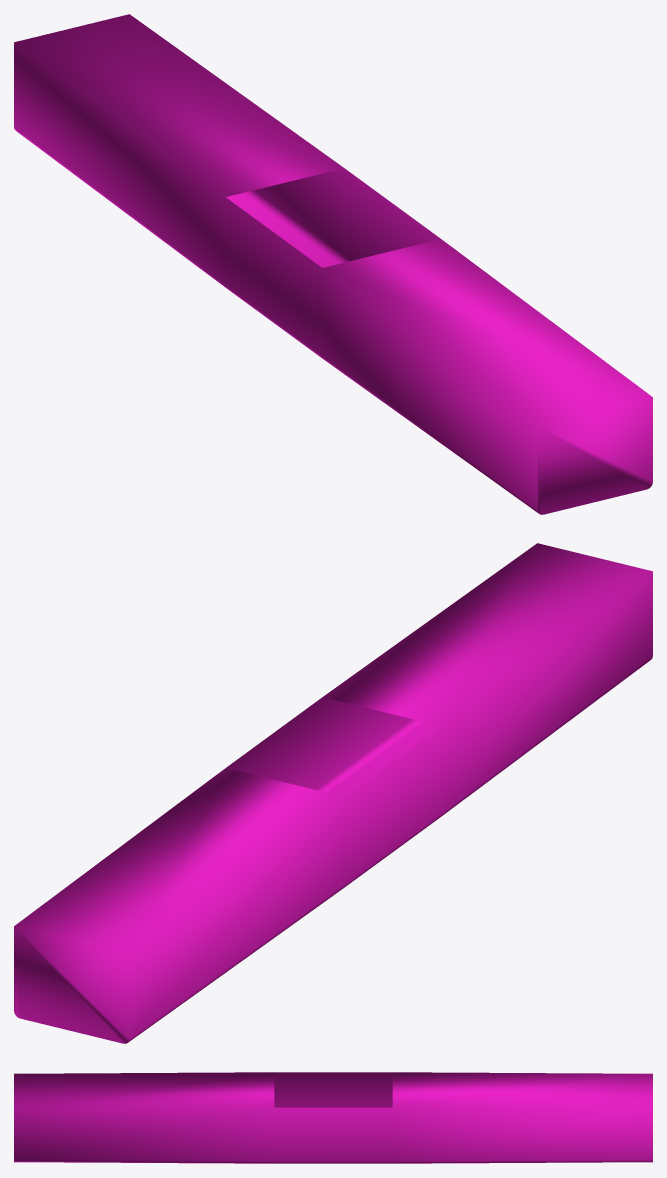
The model's file is Cement.fbx.
The picture shows the model from 3 angles, top to bottom: view 1: azimuth 30°, elevation 25°; view 2: azimuth 150°, elevation 25°; view 3: azimuth 270°, elevation 25°; orthographic projection. The views are drawn at different scales.
Visible parts, largest first — view 1: Cube; view 2: Cube; view 3: Cube.
Boxes of the visible parts, x1,y1,x2,y2 form: Cube: (14,14,652,514); Cube: (14,543,652,1043); Cube: (14,1072,652,1163).
Size of the model in its own units: 423 by 320 by 3228.
